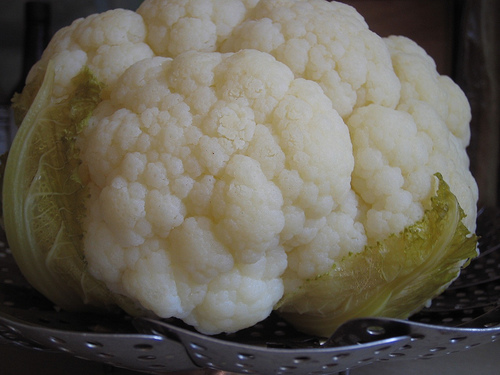cauliflower: (1, 0, 482, 337)
